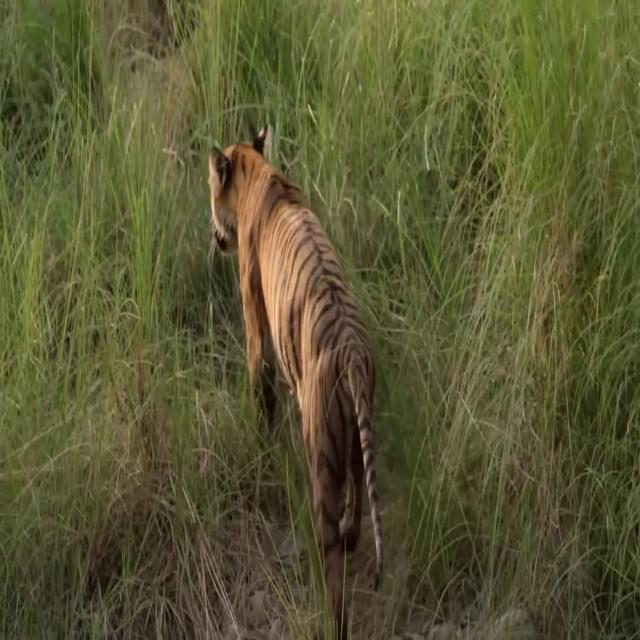tiger: (206, 119, 385, 640)
